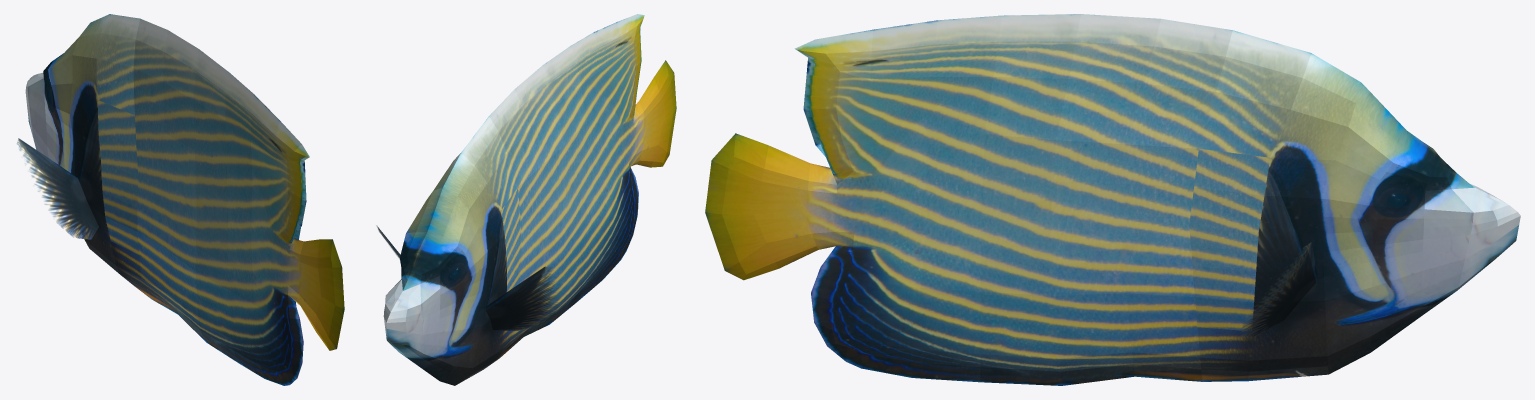
Rendered from pomacanthus-imperator.glb.
3 views of the same model, side by side, from view 1: azimuth 30°, elevation 25°; view 2: azimuth 150°, elevation 25°; view 3: azimuth 270°, elevation 25° (orthographic). The views are drawn at different scales.
Parts seen in each view (by area): view 1: pomacanthus_imperator, pelvic.l; view 2: pomacanthus_imperator, pelvic.l; view 3: pomacanthus_imperator, pelvic.r.
Boxes of the visible parts, <box> form: pomacanthus_imperator: <box>25,14,344,385</box>; pelvic.l: <box>17,138,98,239</box>; pomacanthus_imperator: <box>383,14,676,385</box>; pelvic.l: <box>486,266,558,330</box>; pomacanthus_imperator: <box>705,14,1520,385</box>; pelvic.r: <box>1241,242,1317,336</box>.
Size of the model in its own units: 0.1507 by 0.2014 by 0.4002.
2 materials, 2 textured.
